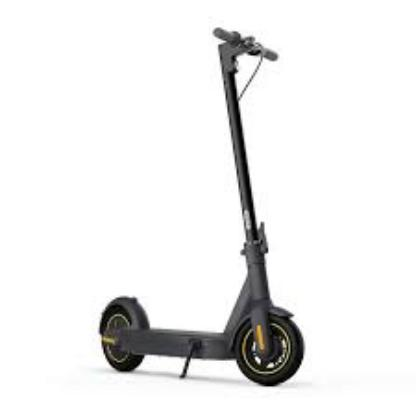bike: (99, 24, 305, 387)
